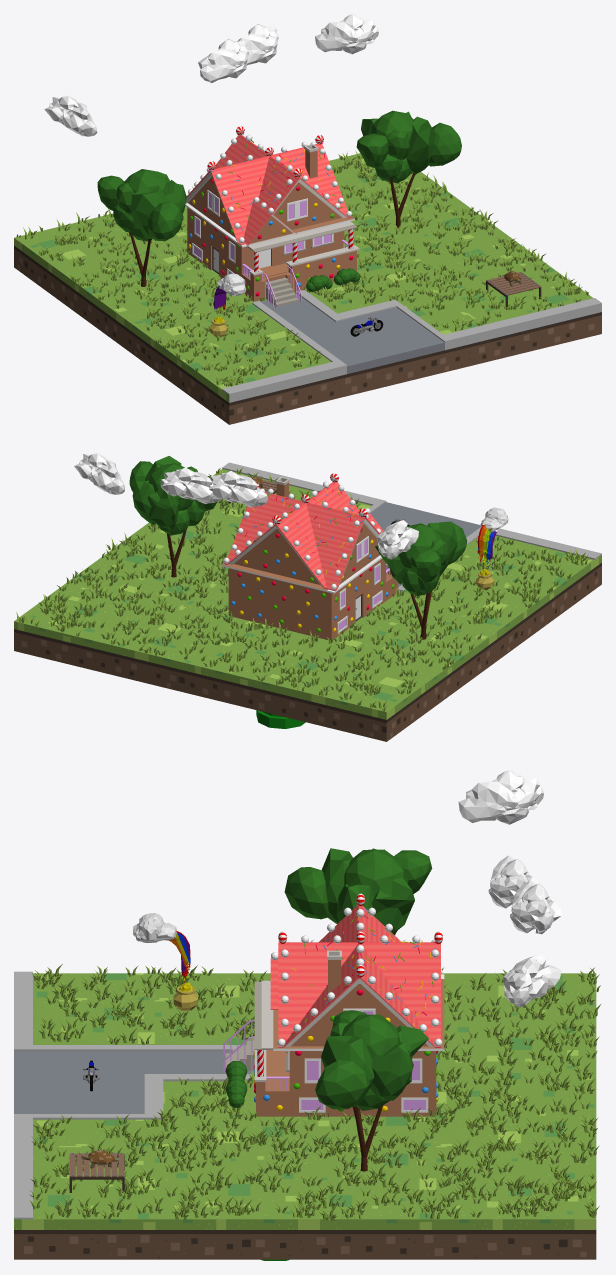
The picture shows the model from 3 angles, top to bottom: view 1: azimuth 30°, elevation 25°; view 2: azimuth 150°, elevation 25°; view 3: azimuth 270°, elevation 25°; orthographic projection. The views are drawn at different scales.
Parts seen in each view (by area): view 1: Cube.006, Cube.1203, Circle.012_Grass_0.192, Cube.007, tree, tree.001, OBJRANDOM_RAINBOW, Cube.009; view 2: Cube.006, Cube.1203, Circle.012_Grass_0.192, Cube.007, tree.001, tree, OBJRANDOM_RAINBOW, UNDERGROUND_PIPES; view 3: Cube.006, Circle.012_Grass_0.192, Cube.1203, tree, Cube.007, tree.001, OBJRANDOM_RAINBOW, Cube.009.
Part boxes in pixels (x1,y1,x2,y2): Cube.006: [14, 153, 601, 424]; Cube.1203: [185, 126, 359, 307]; Circle.012_Grass_0.192: [16, 150, 588, 386]; Cube.007: [44, 14, 378, 136]; tree: [356, 110, 461, 228]; tree.001: [97, 169, 186, 286]; OBJRANDOM_RAINBOW: [209, 273, 246, 337]; Cube.009: [486, 272, 541, 306]; Cube.006: [14, 462, 601, 741]; Cube.1203: [221, 473, 398, 640]; Circle.012_Grass_0.192: [16, 468, 588, 711]; Cube.007: [74, 453, 418, 559]; tree.001: [375, 521, 467, 639]; tree: [129, 456, 216, 577]; OBJRANDOM_RAINBOW: [475, 507, 508, 590]; UNDERGROUND_PIPES: [256, 710, 305, 728]; Cube.006: [14, 971, 596, 1259]; Circle.012_Grass_0.192: [29, 964, 600, 1220]; Cube.1203: [223, 893, 444, 1116]; tree: [315, 1010, 428, 1171]; Cube.007: [458, 770, 561, 1007]; tree.001: [284, 848, 432, 935]; OBJRANDOM_RAINBOW: [133, 913, 198, 1010]; Cube.009: [69, 1152, 124, 1192].
Bounding box in the file's own units: 4071 × 2759 × 4040.
45 materials, 4 textured.
